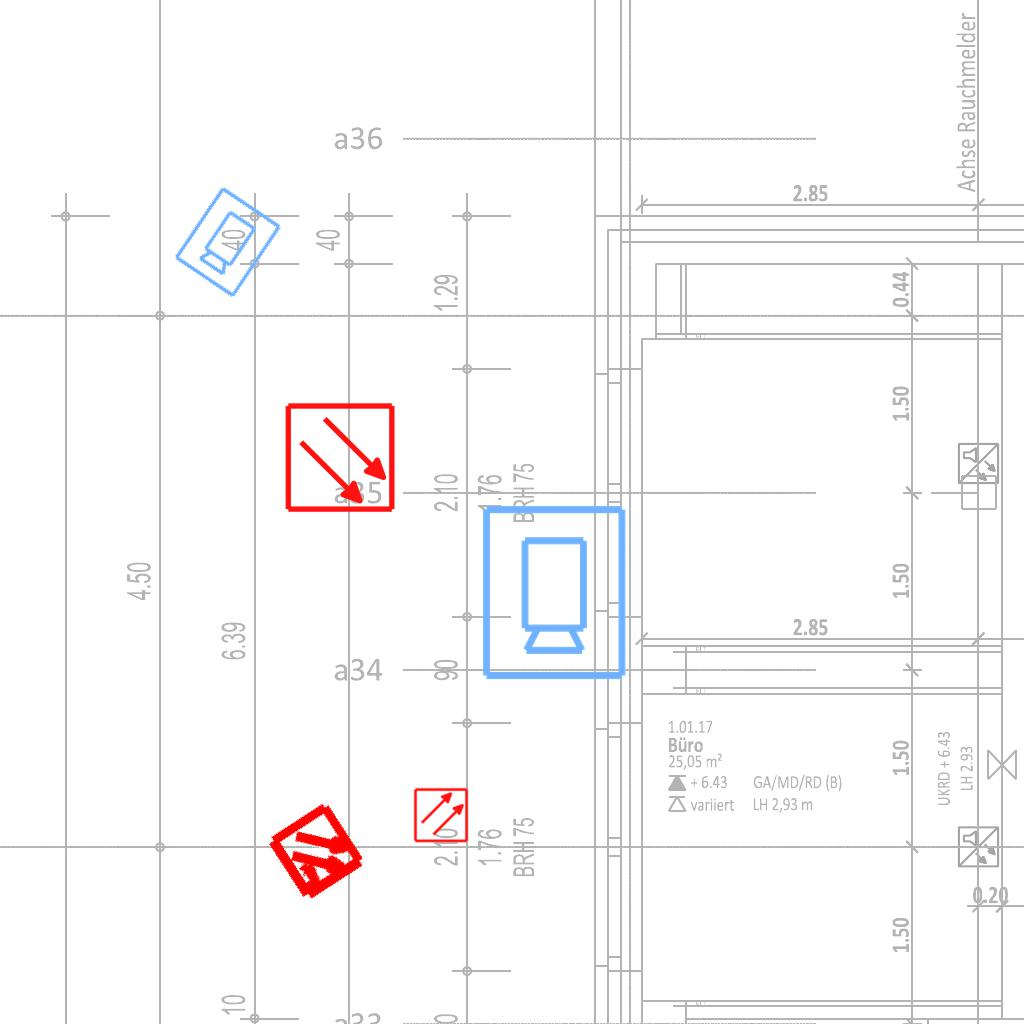KFO_Kamera_mit_Festobjektiv: (476, 501, 630, 683), (170, 182, 285, 301)
OT_Multisensormelder_(Kombination_RMO_WMD): (239, 775, 396, 932)
RMO_Rauchmelder_optischer: (284, 401, 397, 514), (413, 787, 469, 843)
